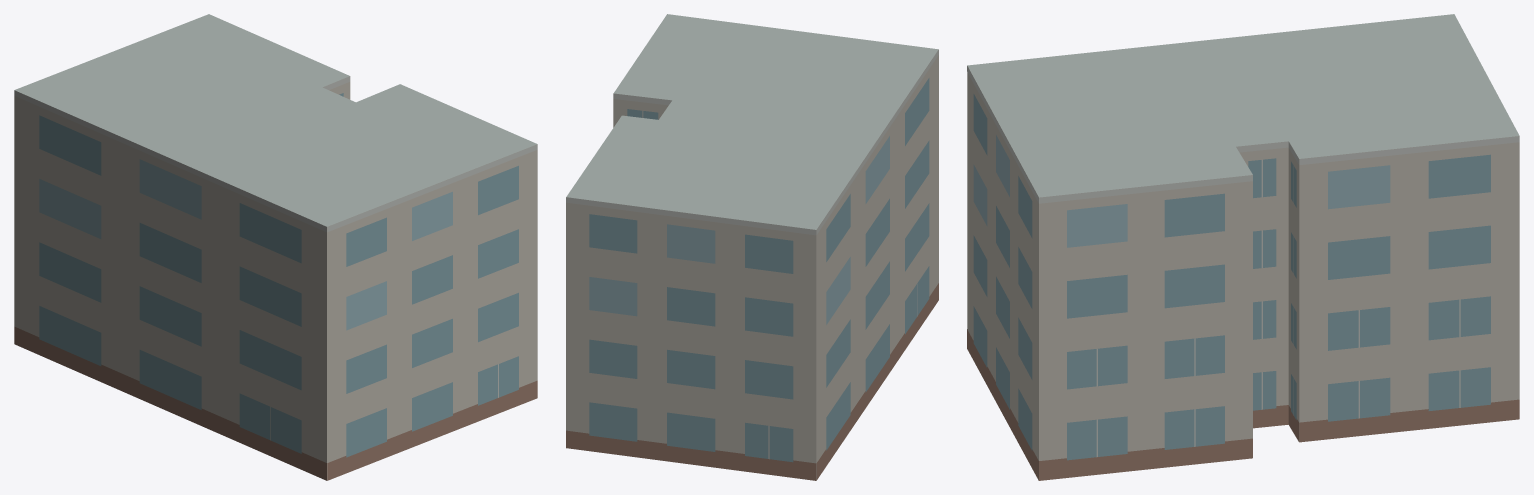
Rendered from survey-upis-32813358.glb.
3 renders of one model, left to right at view 1: azimuth 30°, elevation 25°; view 2: azimuth 150°, elevation 25°; view 3: azimuth 270°, elevation 25°, orthographic. The views are drawn at different scales.
Parts seen in each view (by area): view 1: survey-upis-32813358.tmp; view 2: survey-upis-32813358.tmp; view 3: survey-upis-32813358.tmp.
Part boxes in pixels (bbox=[...]): survey-upis-32813358.tmp: bbox=[14, 14, 537, 480]; survey-upis-32813358.tmp: bbox=[566, 14, 938, 480]; survey-upis-32813358.tmp: bbox=[967, 14, 1519, 480].
Bounding box in the file's own units: 15.5 × 11.15 × 19.72.
